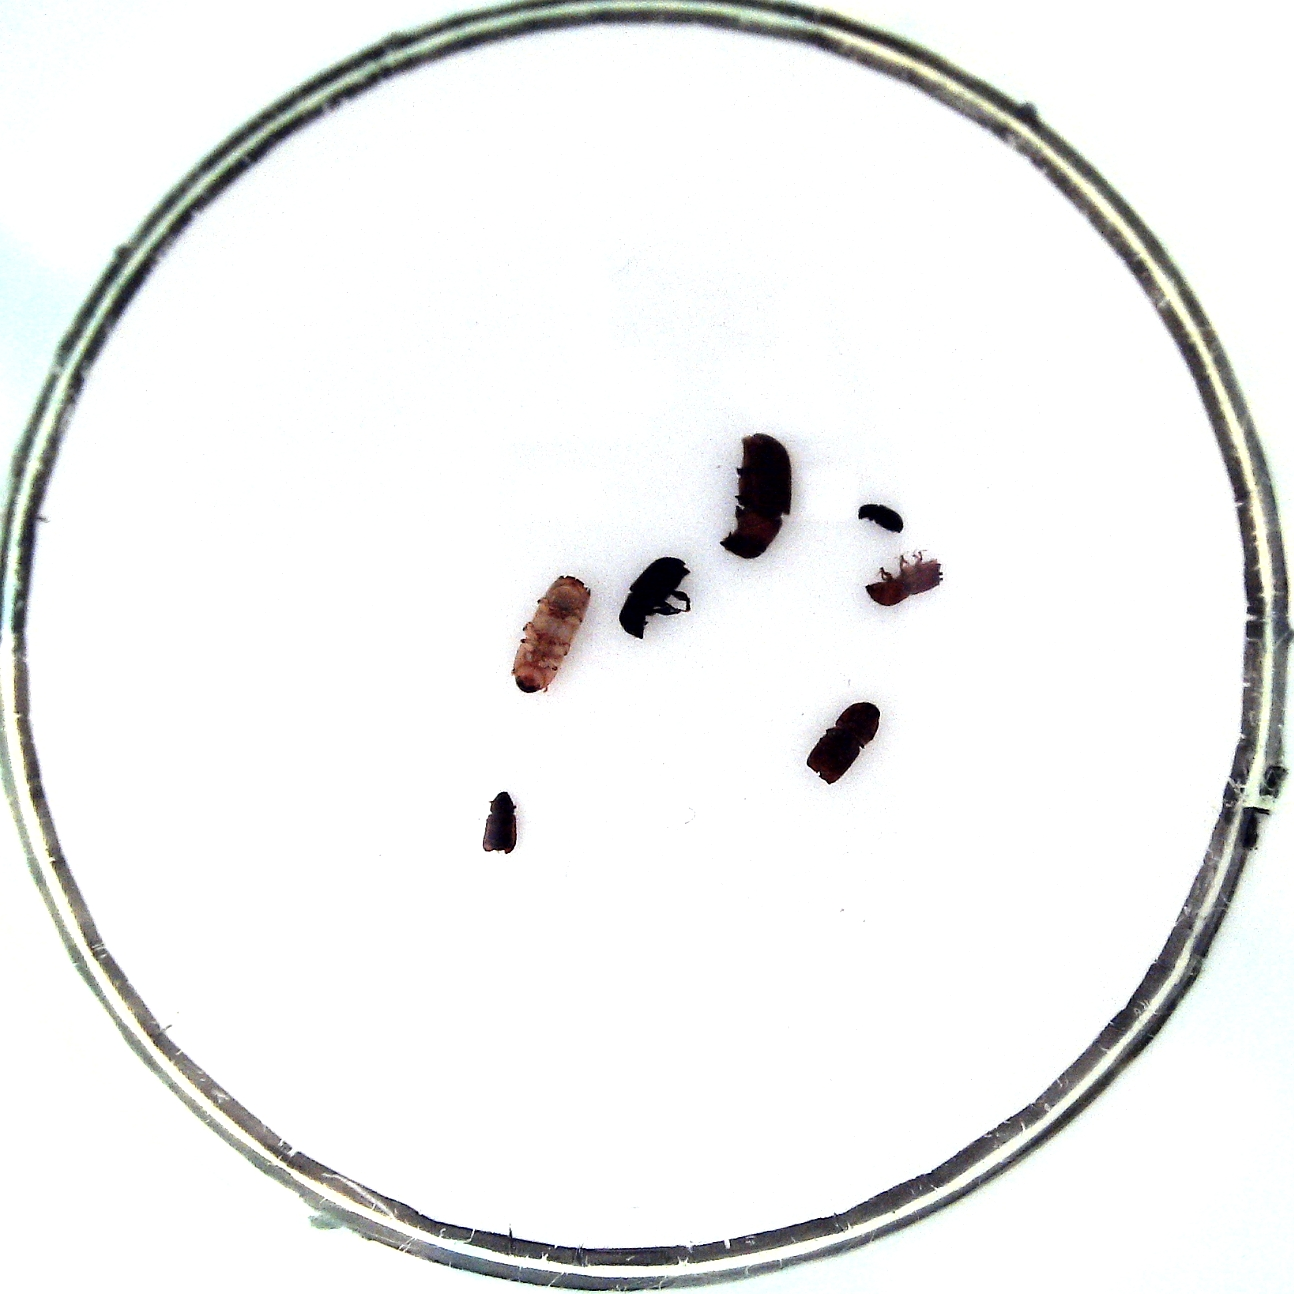Boerner: (510, 575, 592, 694)
Leconte: (719, 433, 792, 559)
acuminatus: (858, 502, 904, 532)
armandi: (619, 558, 690, 640)
coleoptera: (865, 559, 943, 606), (483, 792, 515, 856)
linnaeus: (807, 702, 880, 784)
